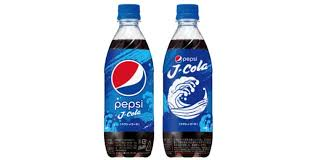Pepsi: (107, 5, 160, 160), (162, 5, 214, 160)
